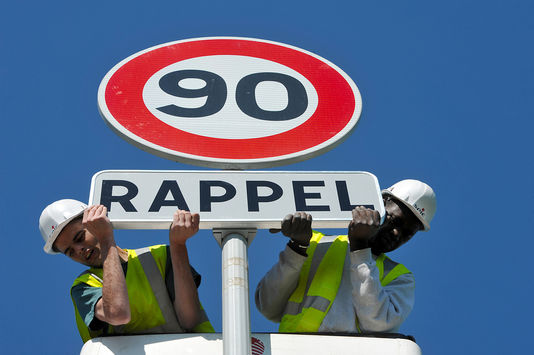Speed_limit_90km: (97, 36, 364, 165)
